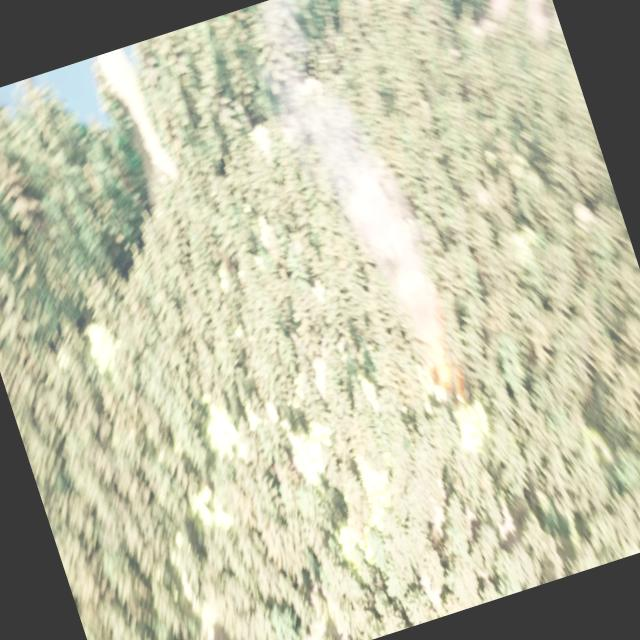fire: (418, 340, 463, 397)
smoke: (258, 27, 458, 359)
